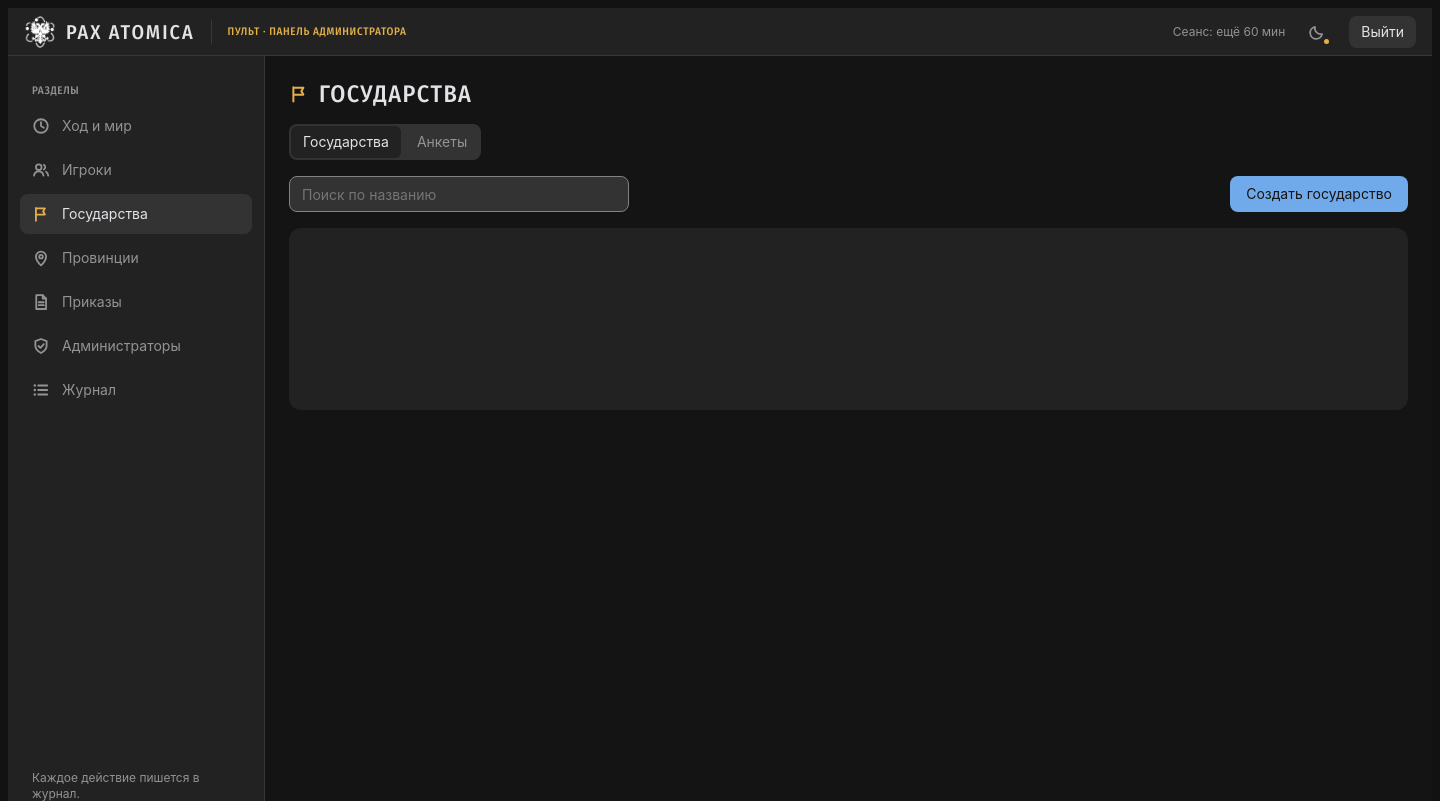
Test: the «Все» filter switches to status=ALL and shows every outcome
Click the button with test id "tab-applications". click: (442, 142)
box: [405,126,479,158]
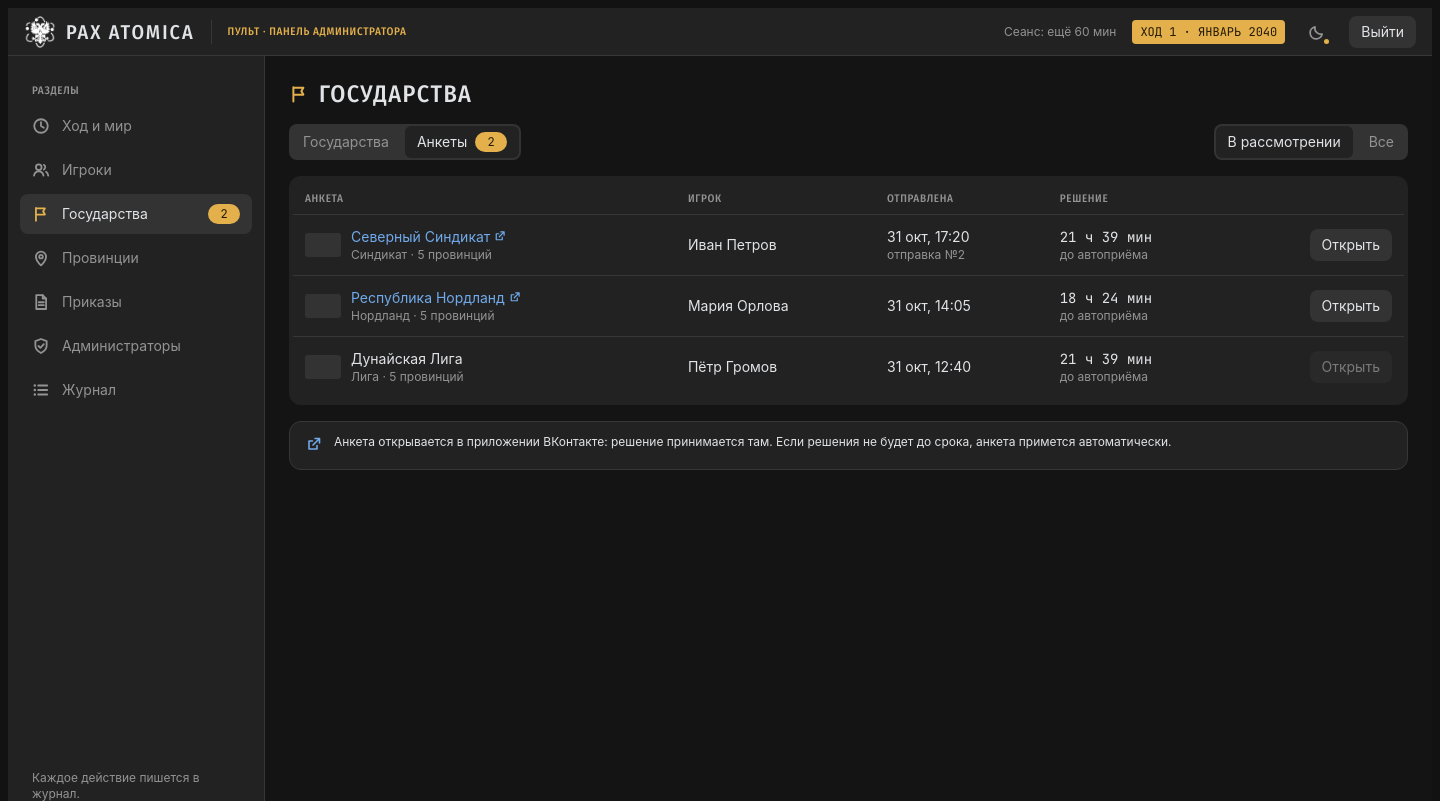
Expected: the table with test id "applications-table" is shown, [293,184,1404,397]
Click the button with test id "app-filter-all". click: (1381, 142)
box: [1357,126,1406,158]
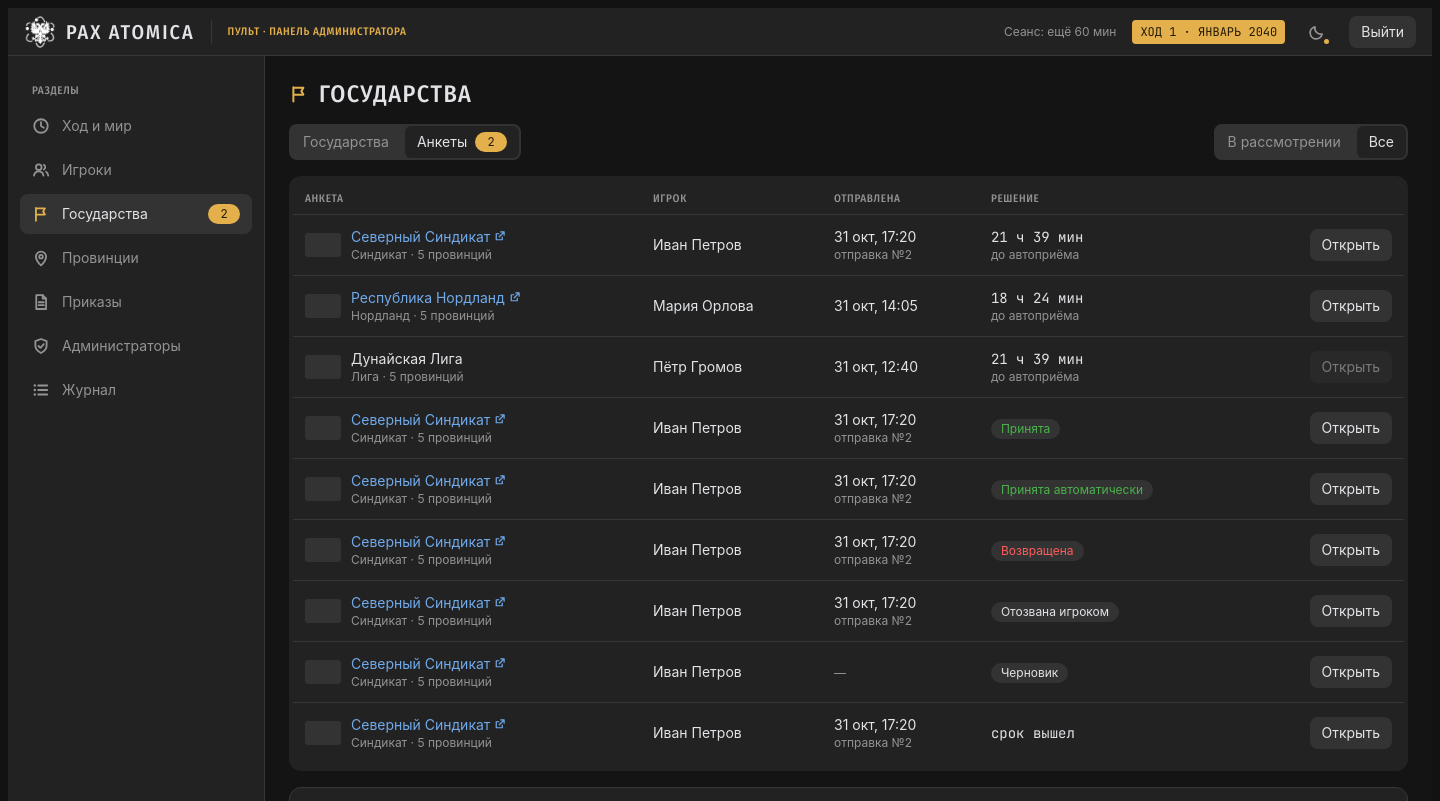
Expected: the row with test id "application-row-app-8" is shown, [293,642,1404,702]
Expected: the row with test id "application-row-app-4" shows "Принята", [1001,420,1050,436]
Expected: the row with test id "application-row-app-5" shows "Принята автоматически", [1001,482,1143,496]
